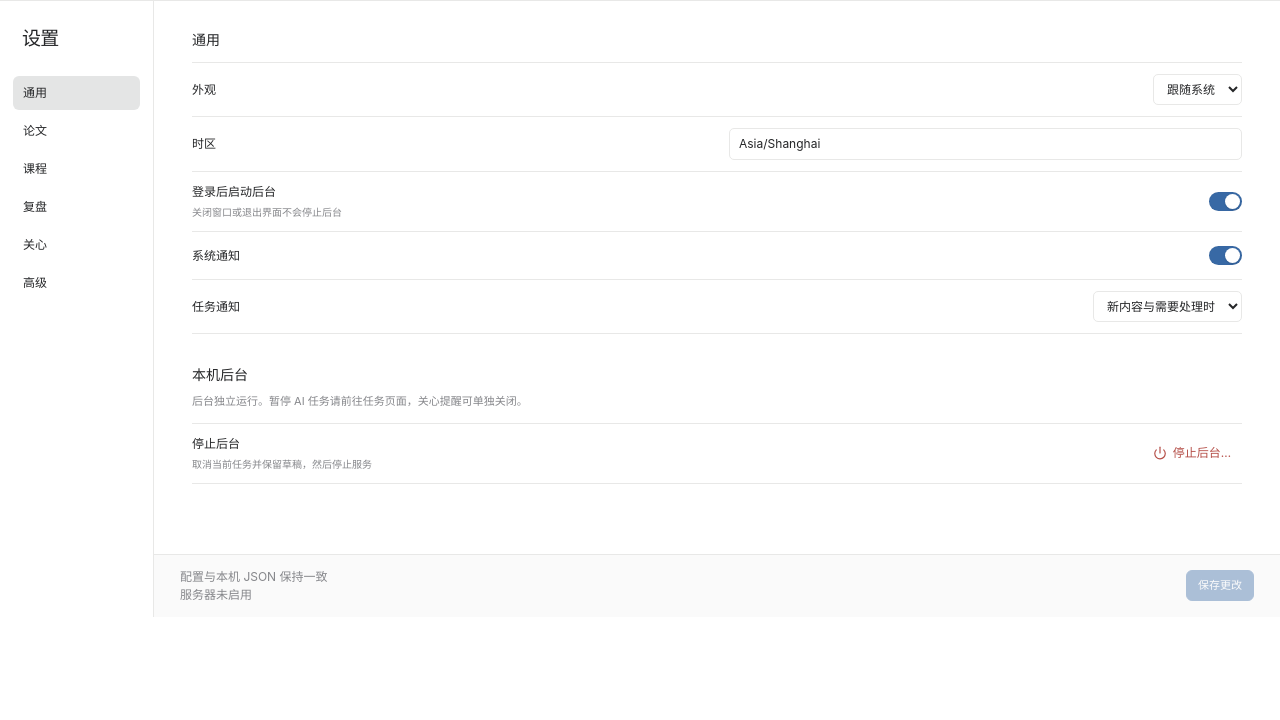
Scenario: personal records and settings › saves business changes with optimistic config revision
Replace the text in the field labelled "时区" with "Europe/London". click: (986, 144)
box: [729,128,1242,160]
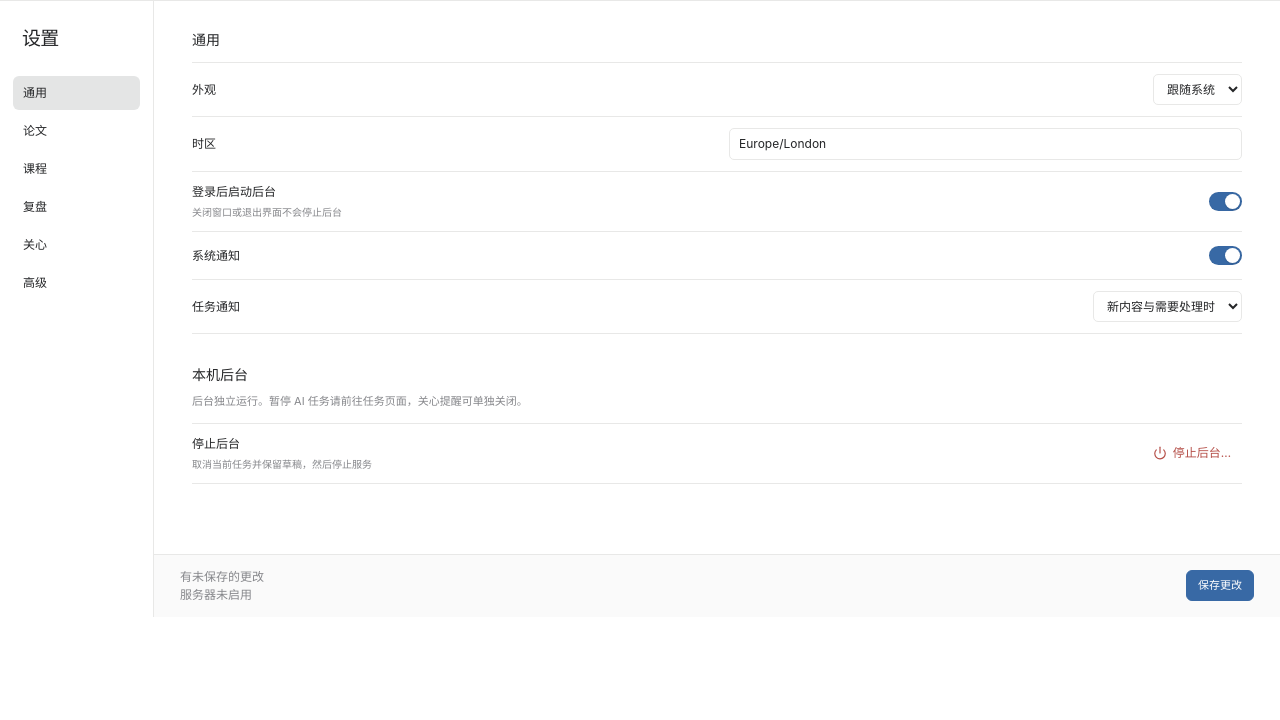
Click the button "保存更改". click: click(1220, 586)
box: [1186,570,1254,601]
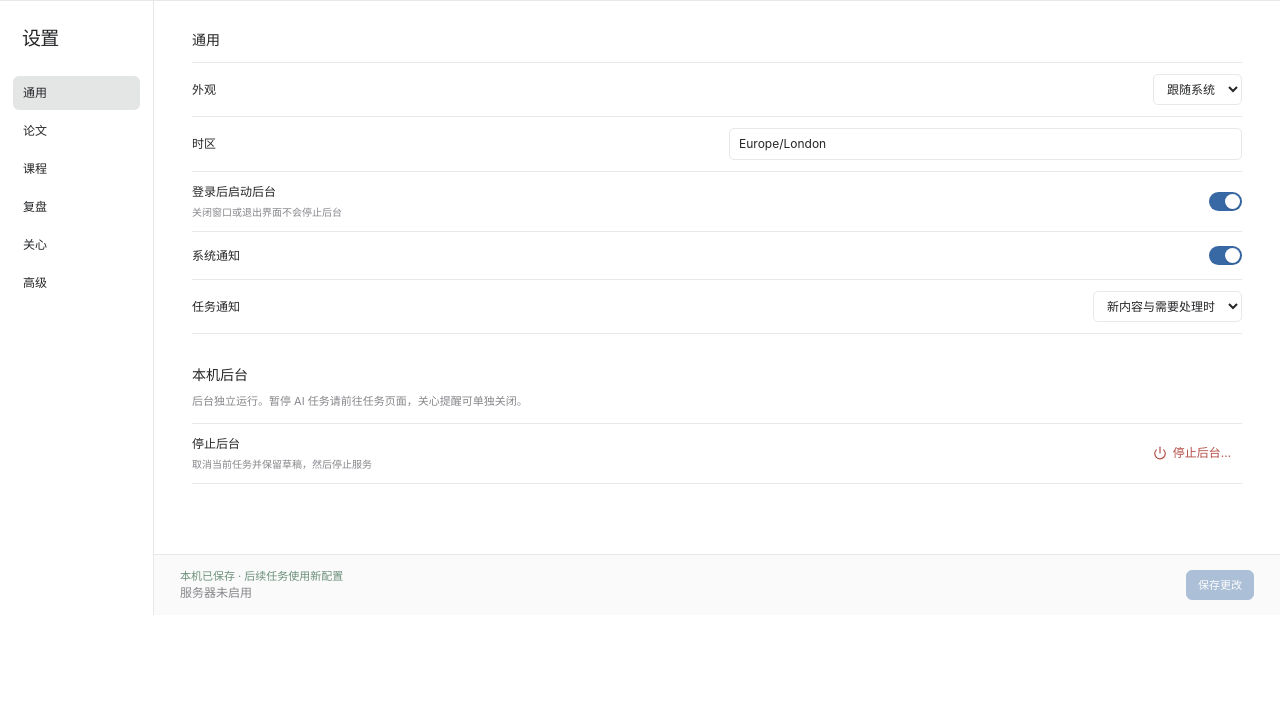
Expected: the text "服务器未启用" is shown, [180,585,252,600]
Expected: the text "本机已保存 · 后续任务使用新配置" is shown, [180,568,343,584]
